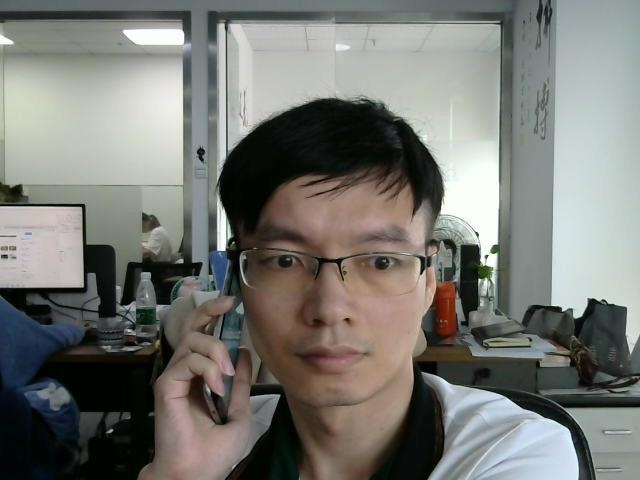hand: (153, 297, 255, 456)
